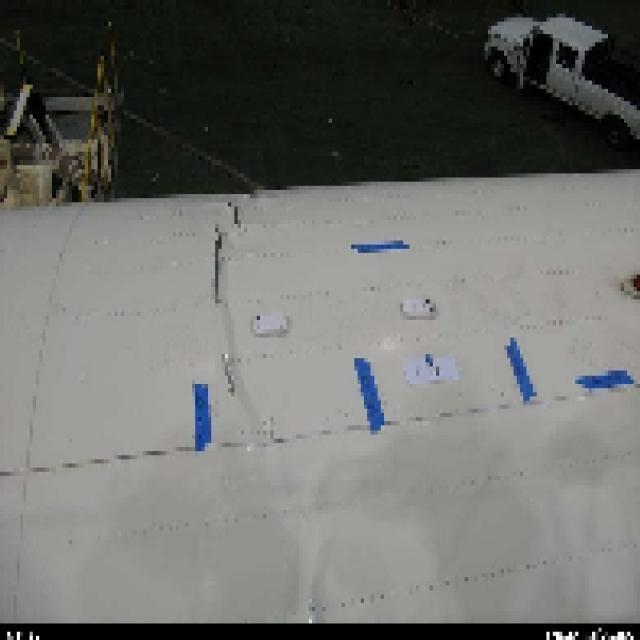crack: (216, 347, 244, 400), (214, 223, 229, 310), (227, 198, 246, 232)
